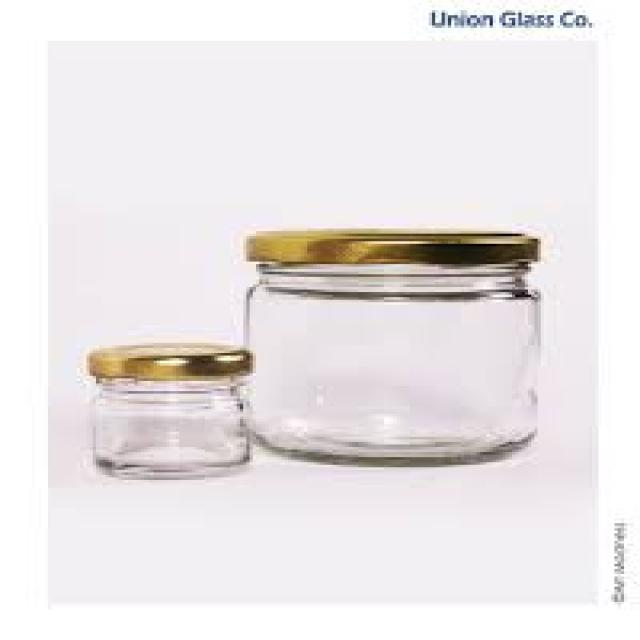glass: (240, 262, 541, 462), (90, 376, 243, 475)
metal: (240, 229, 538, 269), (84, 343, 247, 376)
